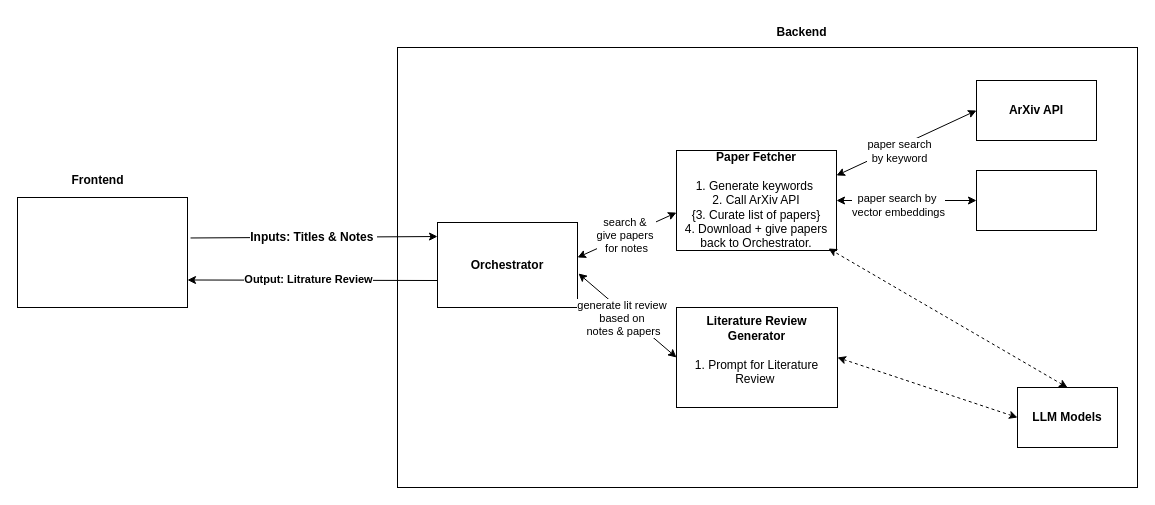
Some shapes in this 1155 by 505 pixel diagram are drawn without their labels. Here are the shapes that lost their labels. From the top down, the centre of each, then its label:
At (x=1036, y=200): "[Optional] Local Paper DB (VectorDB)".
At (x=102, y=252): "UI".
